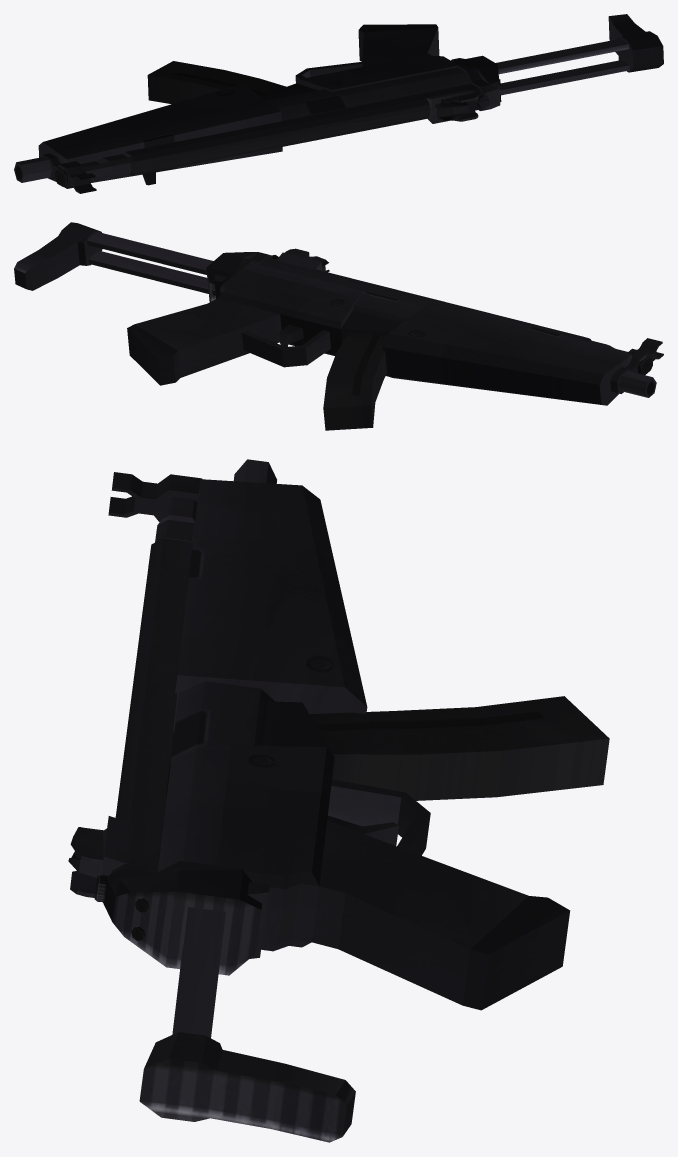
Rendered from Gun2.FBX.
3 renders of one model, top to bottom at view 1: azimuth 30°, elevation 25°; view 2: azimuth 150°, elevation 25°; view 3: azimuth 270°, elevation 25°, orthographic. The views are drawn at different scales.
Parts seen in each view (by area): view 1: gun2; view 2: gun2; view 3: gun2.
Part boxes in pixels (<box>): gun2: <box>14,14,663,193</box>; gun2: <box>14,222,663,430</box>; gun2: <box>68,459,609,1142</box>.
Size of the model in its own units: 1.06 by 0.0977 by 0.4055.
